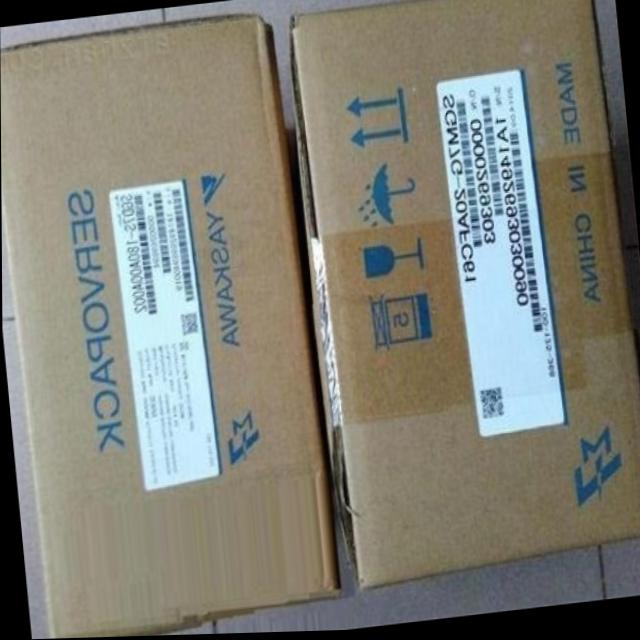box: (0, 15, 341, 639), (292, 0, 640, 590)
